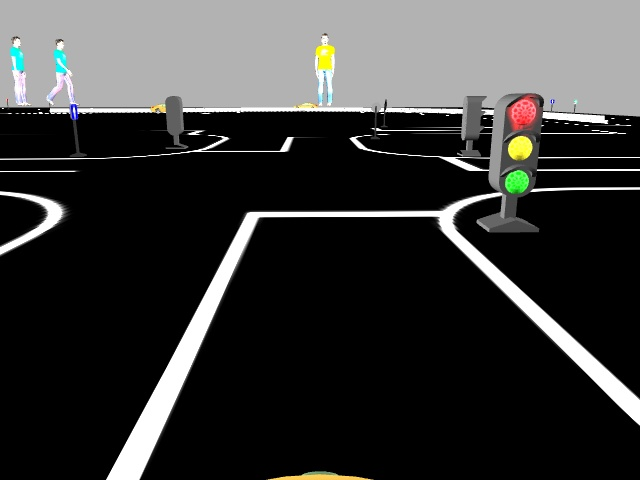TrafficLight: (488, 89, 541, 194)
